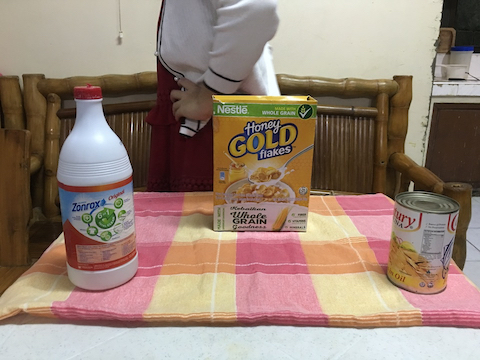bottle: (56, 80, 145, 293)
box: (208, 92, 320, 234)
can: (384, 189, 462, 295)
